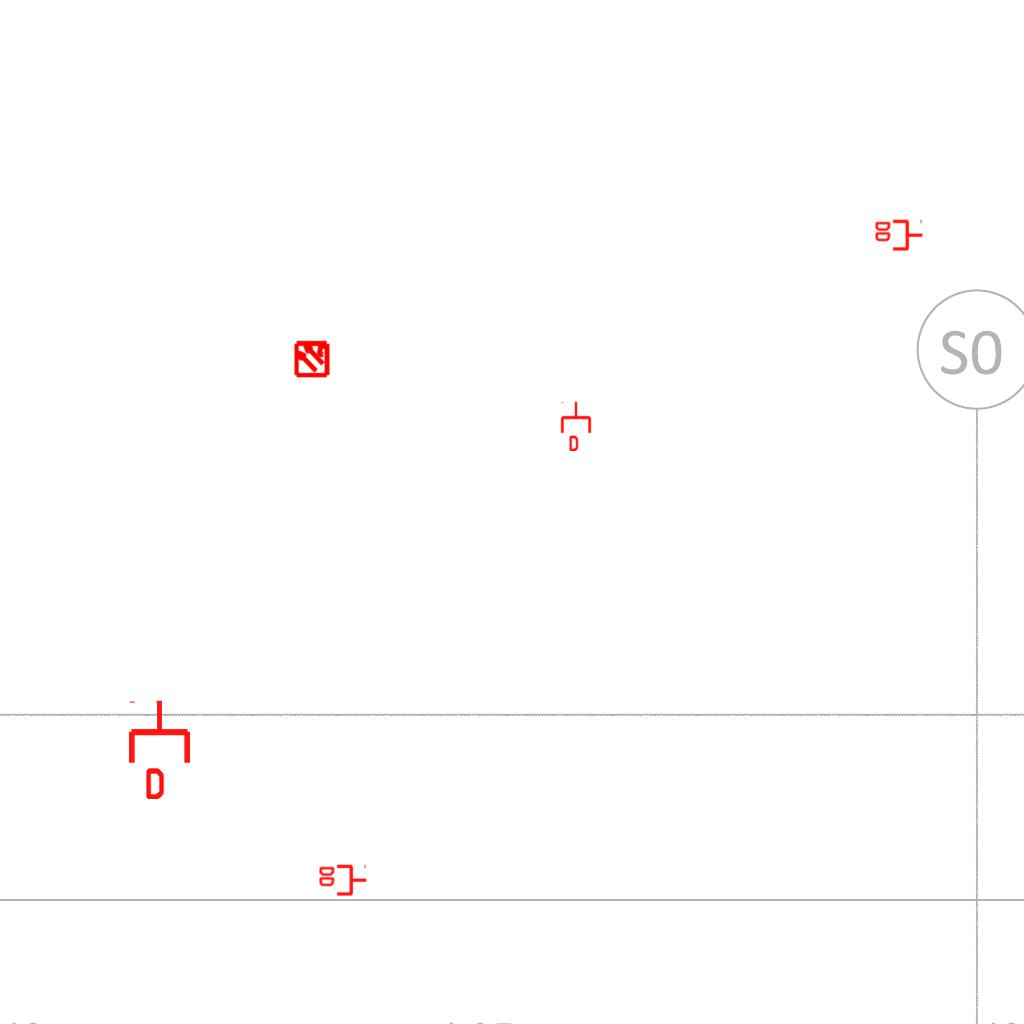Datenanschluss_einfach: (125, 699, 194, 799), (559, 401, 593, 451)
Datenanschluss_zweifach: (873, 219, 924, 253), (317, 864, 368, 898)
OT_Multisensormelder_(Kombination_RMO_WMD): (284, 330, 340, 386)
